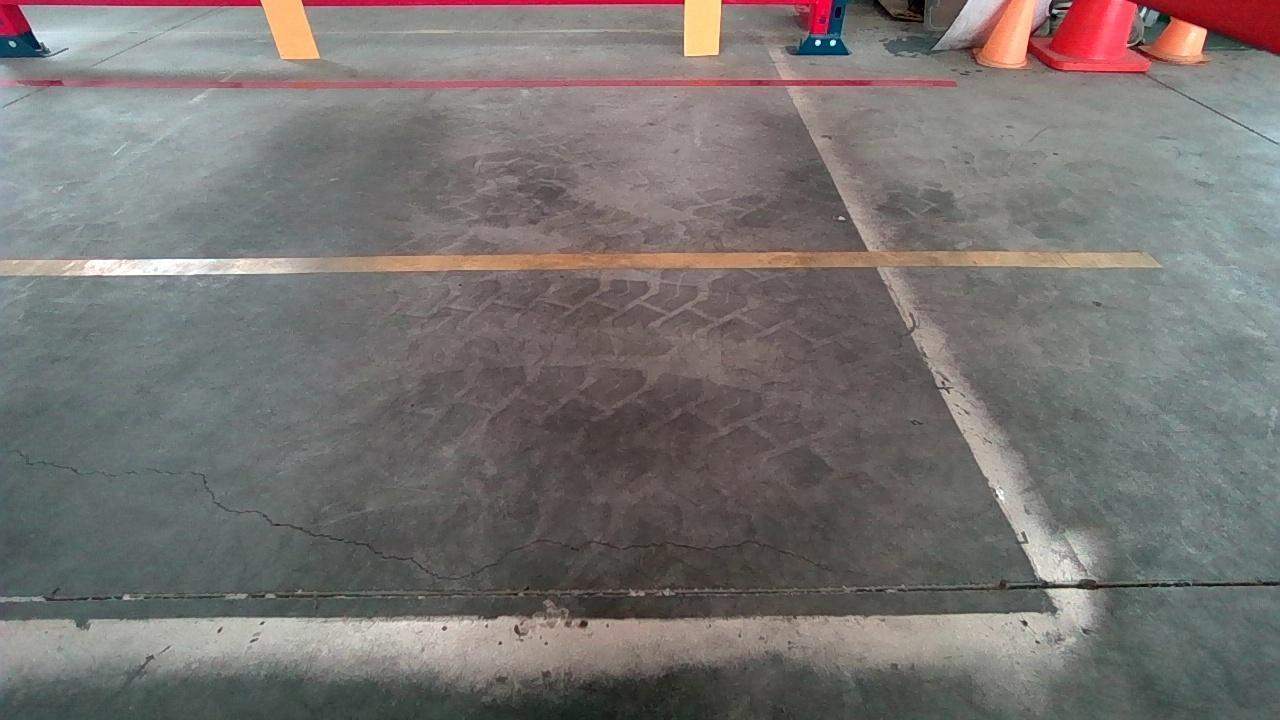red_line: (0, 77, 959, 89)
yellow_line: (0, 251, 1166, 277)
